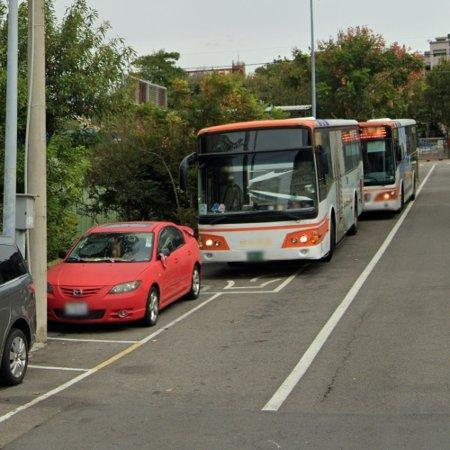buses: (192, 117, 364, 264), (360, 118, 420, 212)
